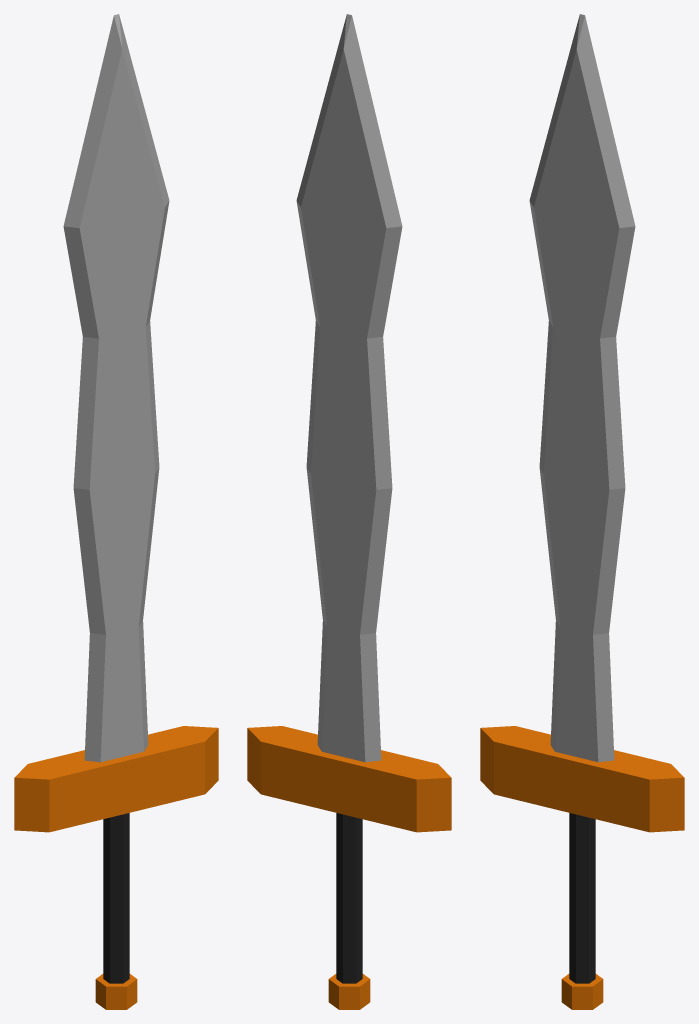
The model's file is Weapon_FM_Great_Sword.glb.
The picture shows the model from 3 angles, left to right: view 1: azimuth 30°, elevation 25°; view 2: azimuth 150°, elevation 25°; view 3: azimuth 330°, elevation 25°; orthographic projection.
Visible parts, largest first — view 1: Weapon_Great_Sword; view 2: Weapon_Great_Sword; view 3: Weapon_Great_Sword.
Part boxes in pixels (x1,y1,x2,y2): Weapon_Great_Sword: (14, 14, 218, 1009); Weapon_Great_Sword: (247, 14, 451, 1009); Weapon_Great_Sword: (480, 14, 684, 1009).
Bounding box in the file's own units: 0.3242 × 1.5 × 0.059.
